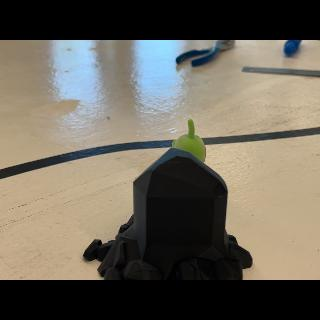teletubby: (172, 119, 206, 162)
